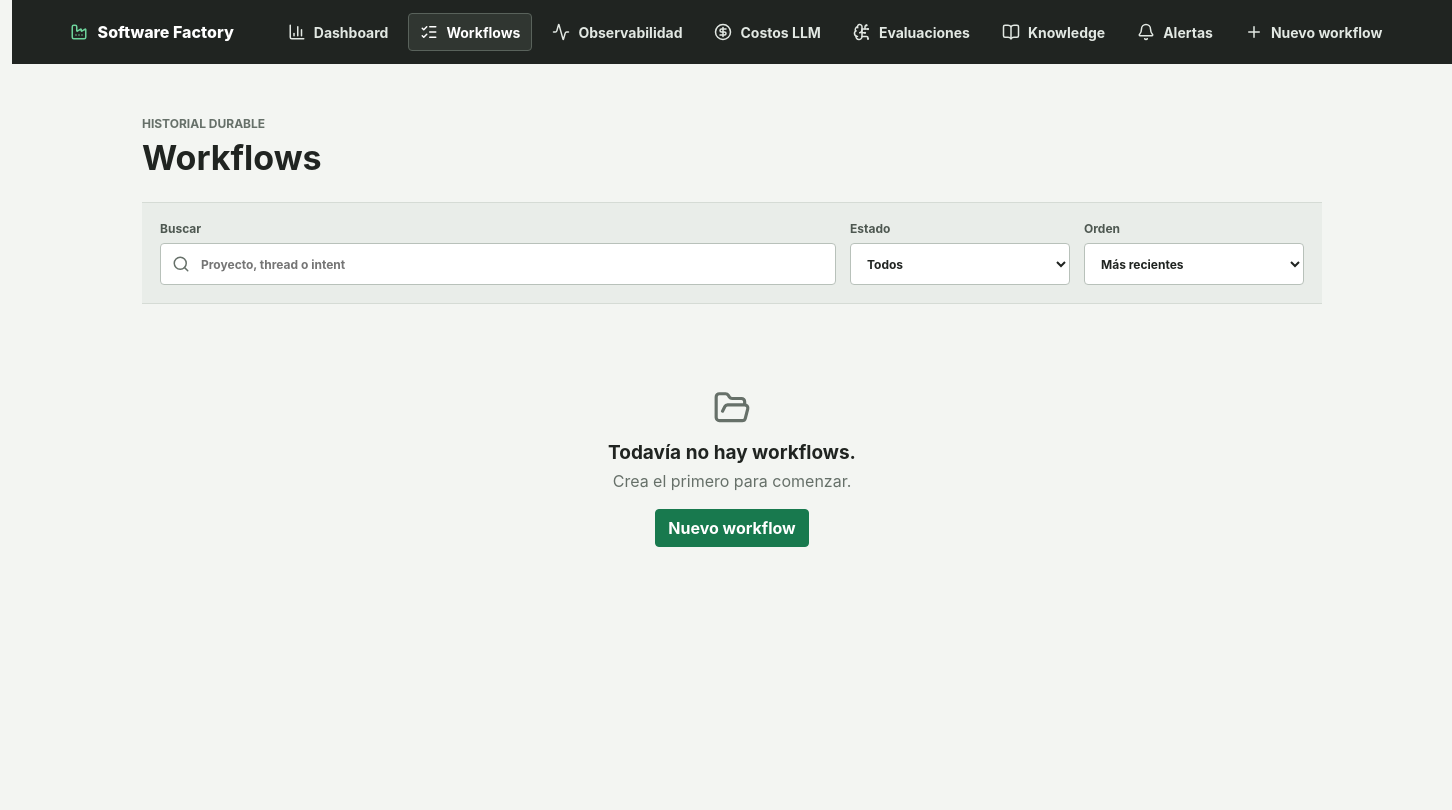
Scenario: workflow list › debounces search and stores it in the URL
The image size is (1452, 810).
Type "ui auto" into the search field labelled "Buscar" at (498, 264), box [160,243,836,285]
(page scrolled)
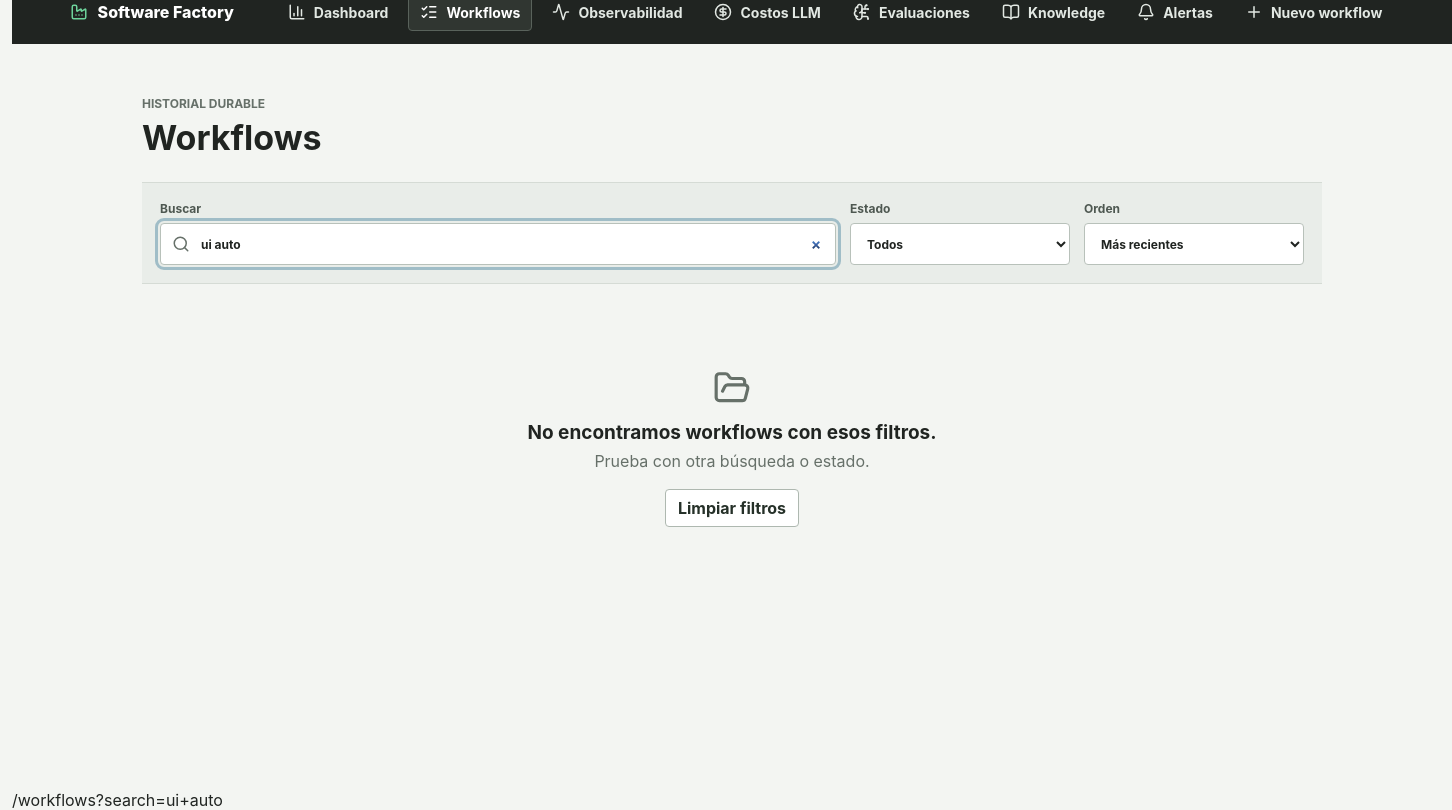
Expected: the text with test id "location" shows "search=ui+auto", [96,790,223,809]
